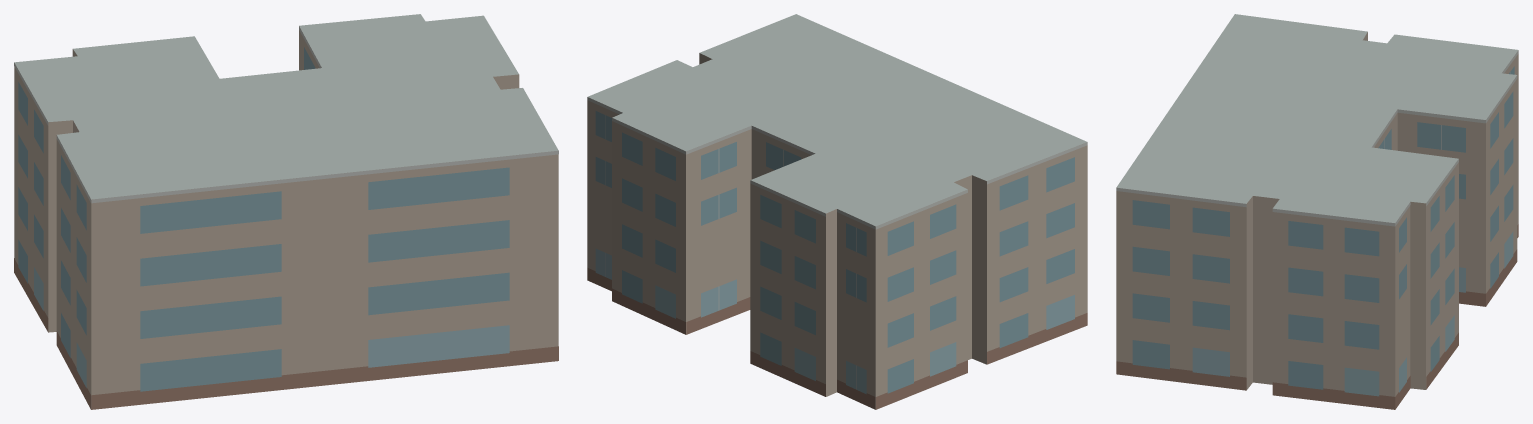
Rendered from survey-upis-32875308.glb.
3 views of the same model, side by side, from view 1: azimuth 30°, elevation 25°; view 2: azimuth 150°, elevation 25°; view 3: azimuth 270°, elevation 25° (orthographic). The views are drawn at different scales.
Visible parts, largest first — view 1: survey-upis-32875308.tmp; view 2: survey-upis-32875308.tmp; view 3: survey-upis-32875308.tmp.
Part boxes in pixels (bbox=[...]): survey-upis-32875308.tmp: bbox=[14, 14, 558, 409]; survey-upis-32875308.tmp: bbox=[587, 14, 1087, 409]; survey-upis-32875308.tmp: bbox=[1116, 14, 1518, 409].
Size of the model in its own units: 32.69 by 13.6 by 26.58.
